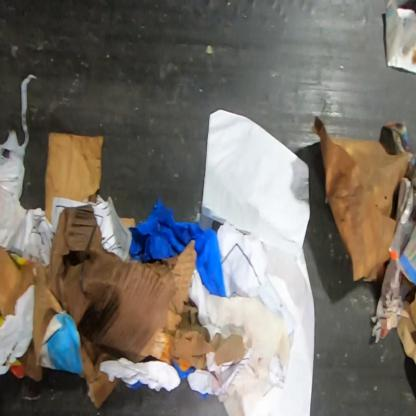cardboard: (0, 204, 245, 411), (44, 131, 105, 224), (396, 290, 415, 368), (119, 217, 136, 228)
soft_plastic: (128, 196, 226, 297), (0, 73, 38, 232), (172, 362, 196, 379), (201, 393, 208, 399)
